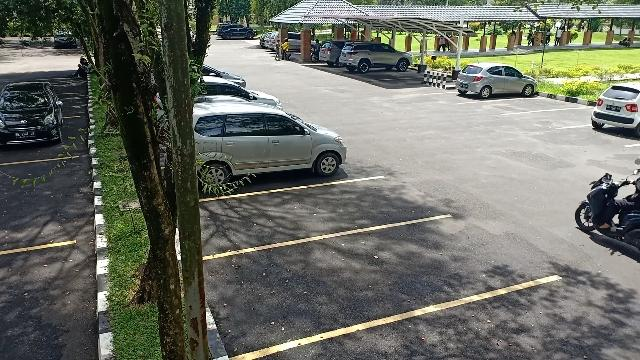empty: (213, 239, 464, 338), (210, 180, 390, 252), (2, 156, 90, 248), (530, 108, 594, 132), (492, 96, 558, 116)
occupied: (195, 112, 349, 200), (0, 106, 84, 164)
